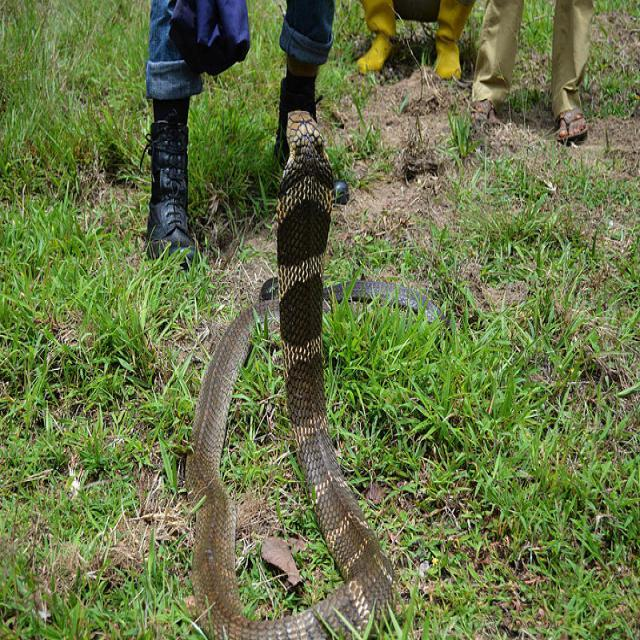Snake: (183, 110, 452, 638)
